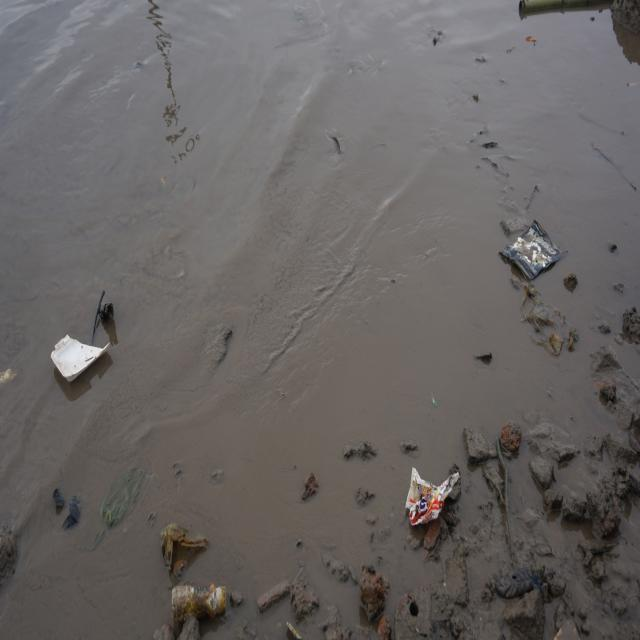Botol Plastik: (167, 579, 230, 625)
Bungkus Makanan: (494, 217, 567, 284), (46, 330, 115, 391), (403, 462, 462, 533)
